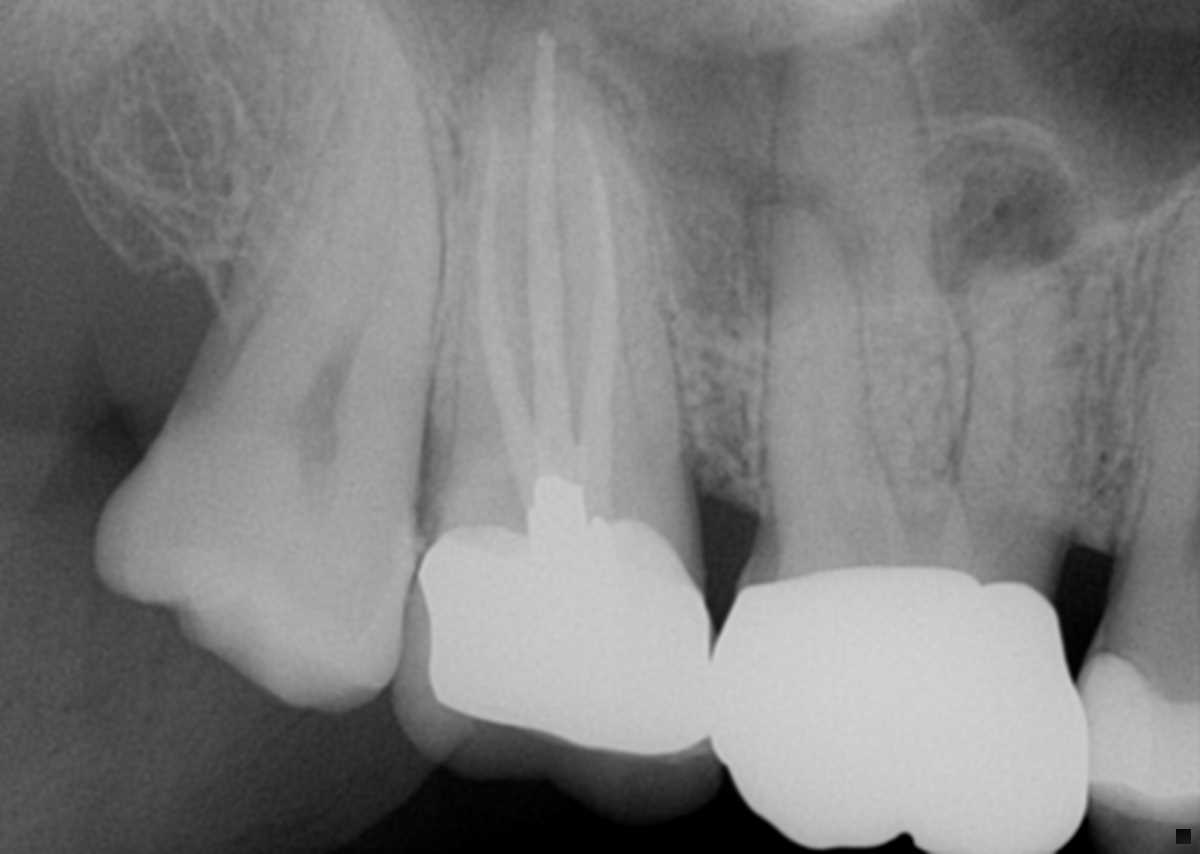Apical Lesion: (914, 130, 1082, 289), (730, 169, 884, 280), (750, 0, 932, 83), (559, 41, 637, 129)
Distal Root: (427, 94, 558, 444), (751, 202, 891, 501)
Main Root: (214, 0, 444, 427), (1115, 196, 1200, 544)
Mesial Canal: (987, 307, 1023, 512)
Mesial Root: (552, 72, 694, 452), (946, 248, 1083, 540)
Palatal Root: (765, 0, 965, 527), (452, 0, 642, 463)
Root Canal Filling: (476, 130, 553, 501), (528, 32, 578, 483), (573, 120, 620, 521)
